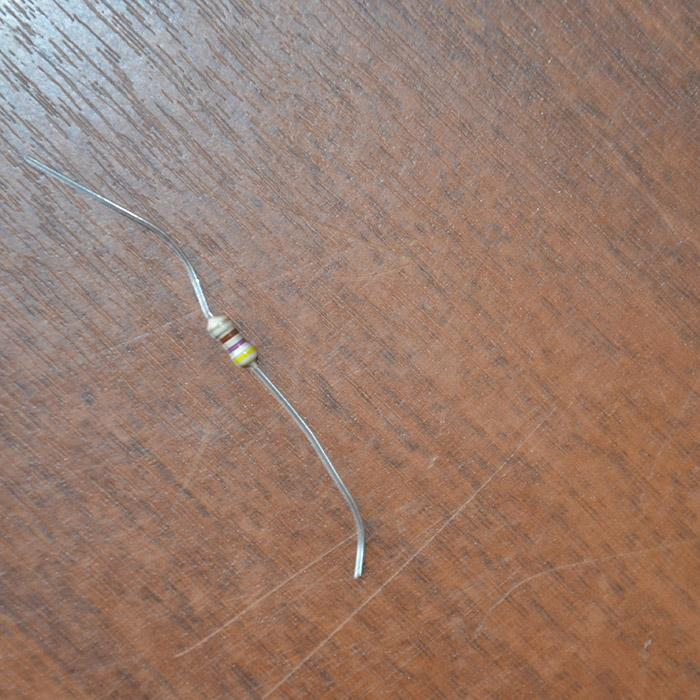resistor: (206, 314, 258, 370)
